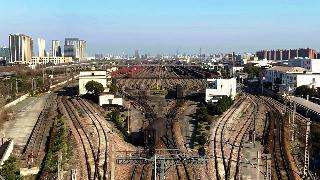train: (144, 117, 168, 145), (176, 84, 182, 98)
